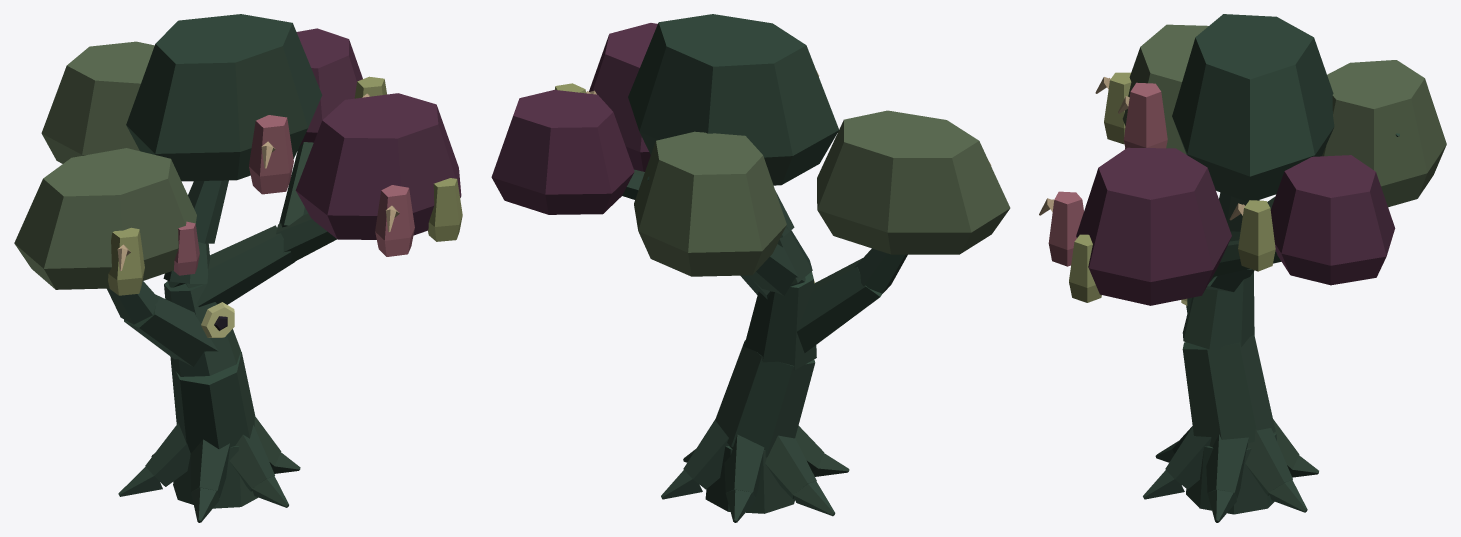
Rendered from orchard-apple-bloomed.glb.
3 renders of one model, left to right at view 1: azimuth 30°, elevation 25°; view 2: azimuth 150°, elevation 25°; view 3: azimuth 270°, elevation 25°, orthographic. The views are drawn at different scales.
Parts seen in each view (by area): view 1: Orchard apple · bloomed; view 2: Orchard apple · bloomed; view 3: Orchard apple · bloomed.
Boxes of the visible parts, <box> form: Orchard apple · bloomed: <box>14,14,462,522</box>; Orchard apple · bloomed: <box>491,14,1010,522</box>; Orchard apple · bloomed: <box>1039,14,1446,522</box>.
Size of the model in its own units: 1.83 by 1.87 by 1.52.
